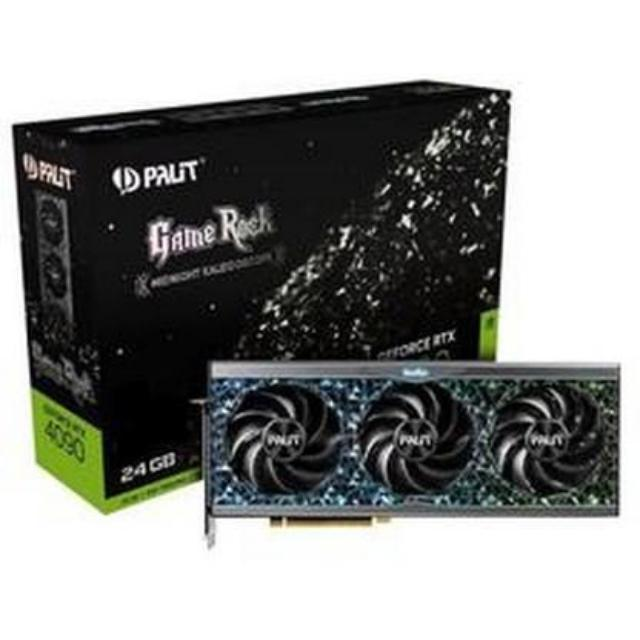GPU: (203, 356, 628, 527)
